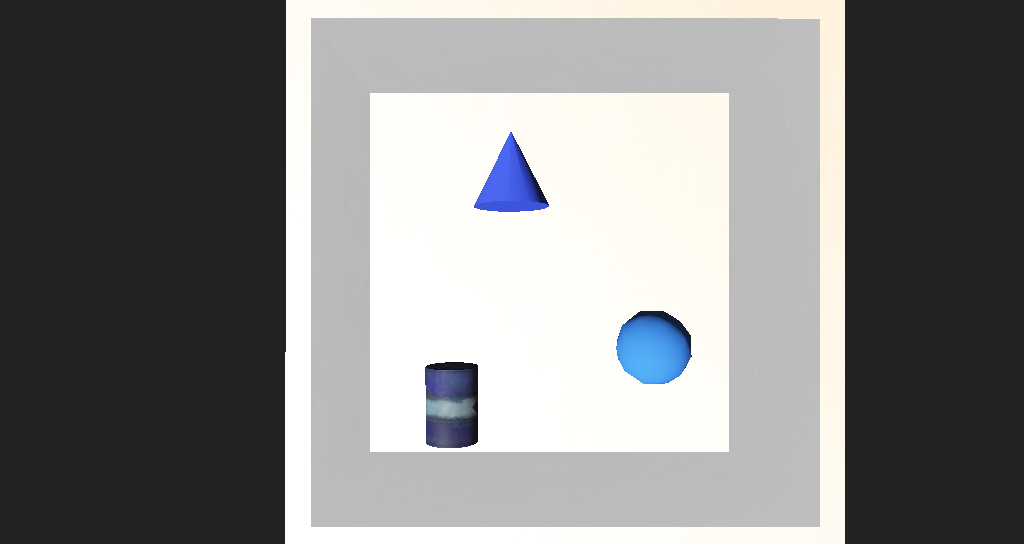cone: (401, 322, 448, 375)
cylinder: (438, 177, 505, 234)
sphere: (563, 293, 623, 336)
